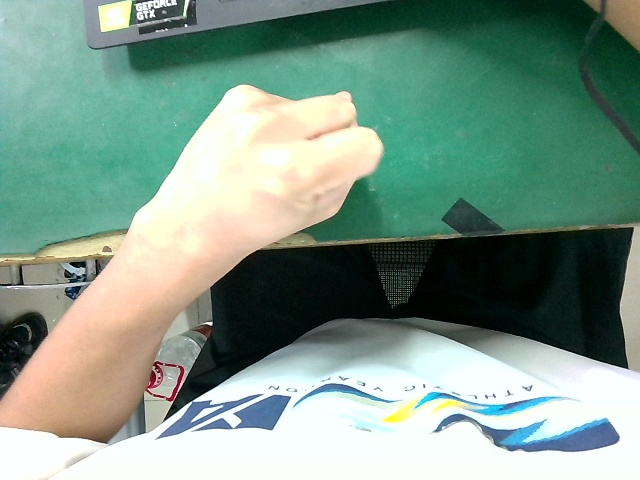stone: (140, 42, 385, 300)
